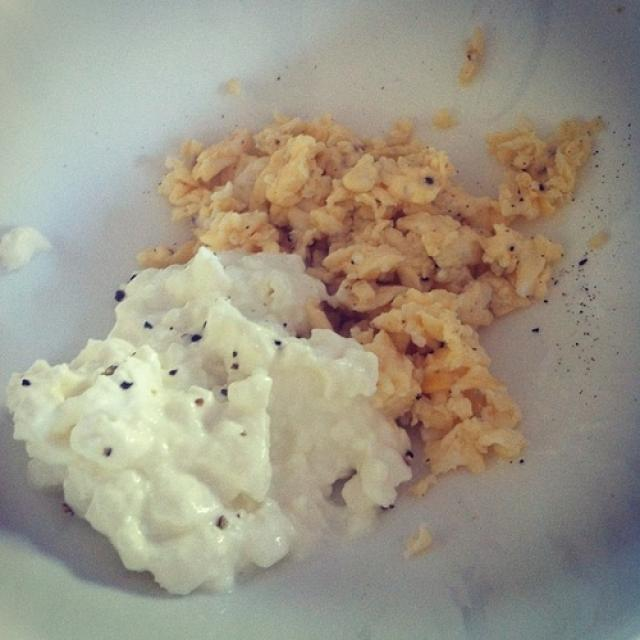鸡蛋料理: (9, 23, 634, 602)
